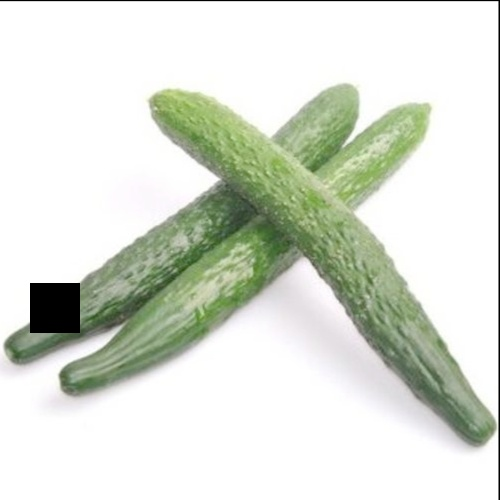cucumber: (153, 87, 491, 437), (69, 101, 431, 398), (6, 85, 354, 350)
